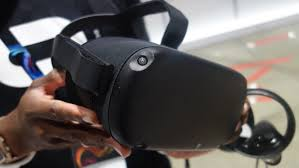oculus: (51, 25, 248, 154)
